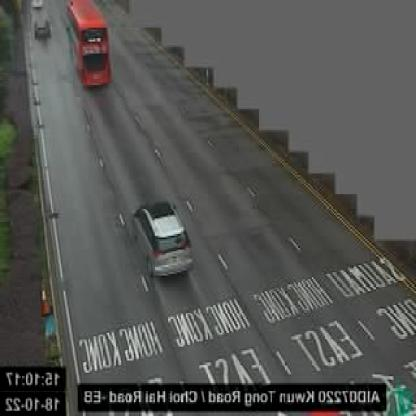Bus: (63, 0, 111, 90)
Car: (132, 198, 193, 280), (33, 15, 52, 40)
